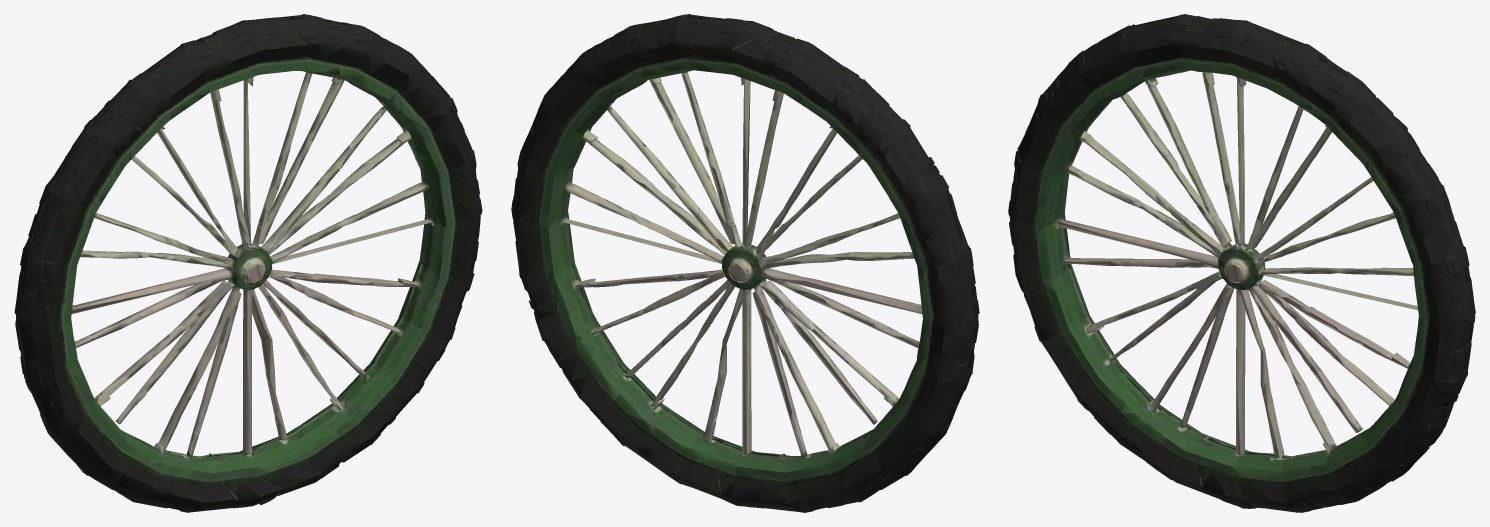
The model's file is getkong-wheel2.glb.
The picture shows the model from 3 angles, left to right: view 1: azimuth 30°, elevation 25°; view 2: azimuth 150°, elevation 25°; view 3: azimuth 330°, elevation 25°; orthographic projection.
Visible parts, largest first — view 1: output_unwrapped; view 2: output_unwrapped; view 3: output_unwrapped.
Part boxes in pixels (x1,y1,x2,y2): output_unwrapped: [14, 14, 482, 512]; output_unwrapped: [511, 14, 979, 512]; output_unwrapped: [1008, 14, 1475, 512].
Size of the model in its own units: 1.9 by 1.9 by 0.207.
1 material, 1 textured.
